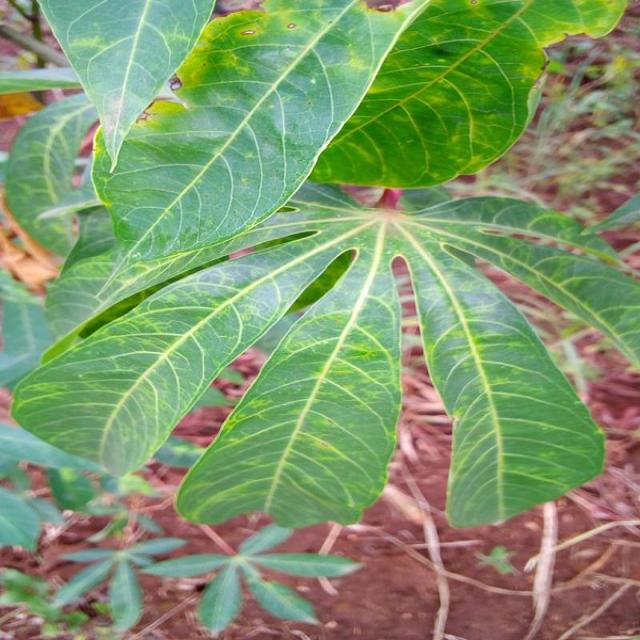cassava leaf: (6, 1, 636, 537), (88, 0, 426, 267), (394, 221, 606, 530), (173, 265, 402, 530), (37, 0, 216, 173)
